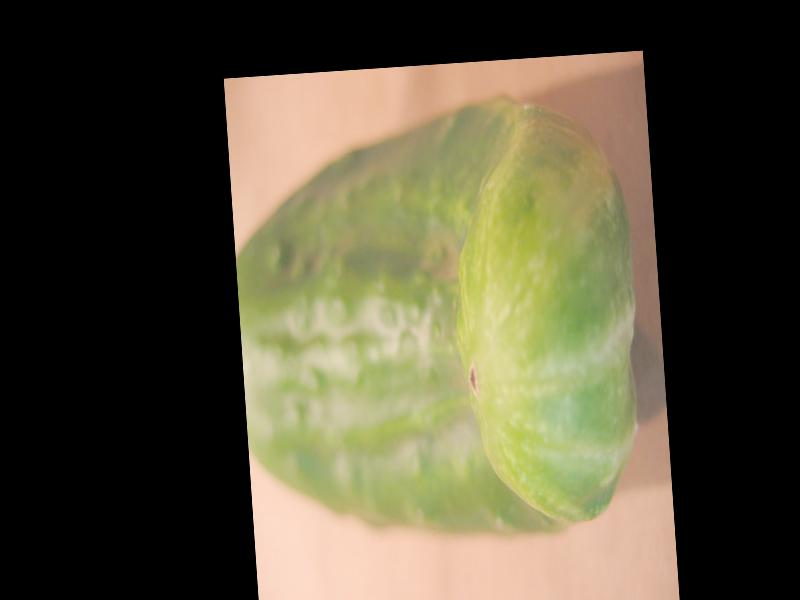Cucumber: (227, 91, 649, 555)
